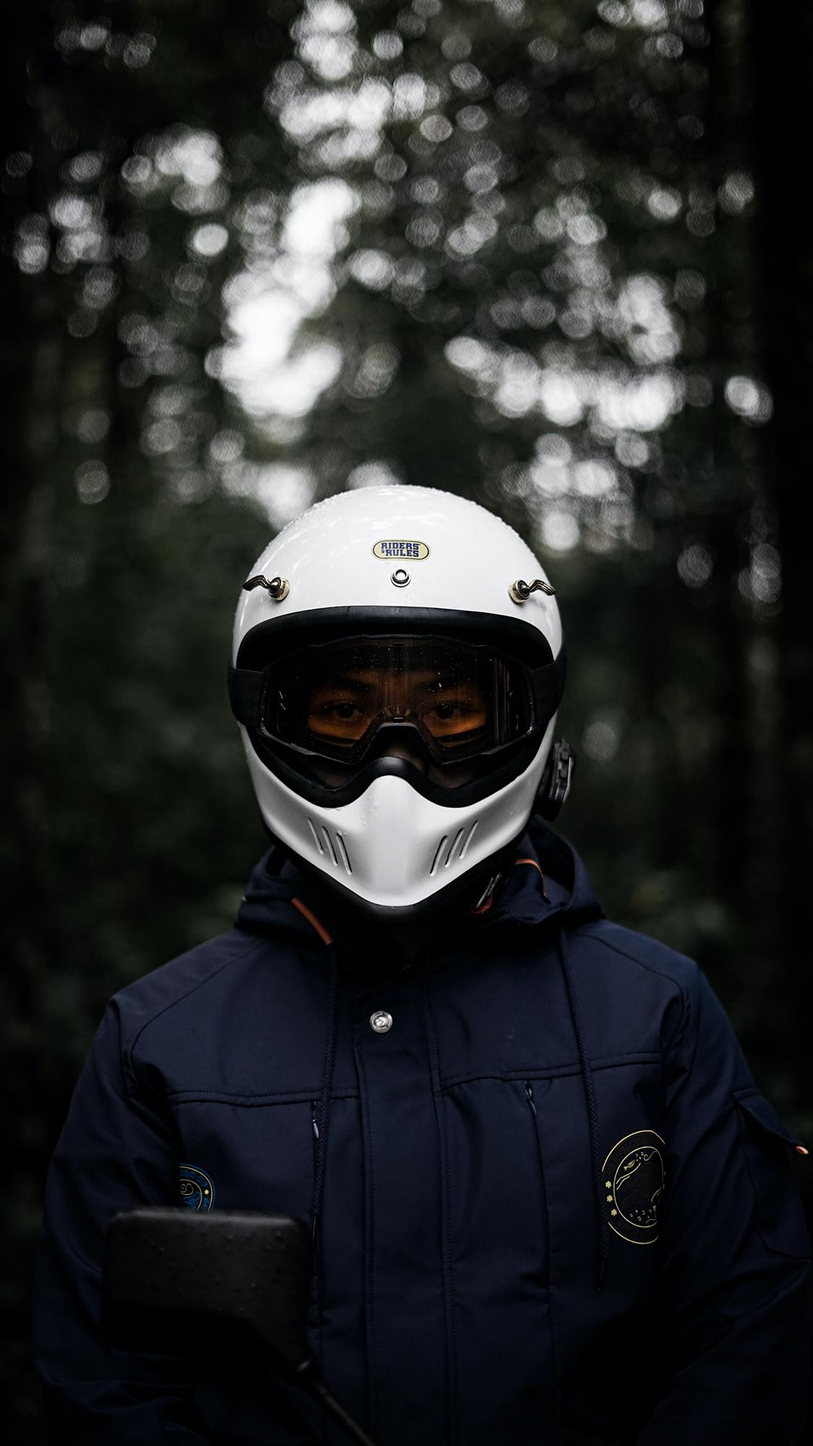helmet: (228, 481, 579, 929)
